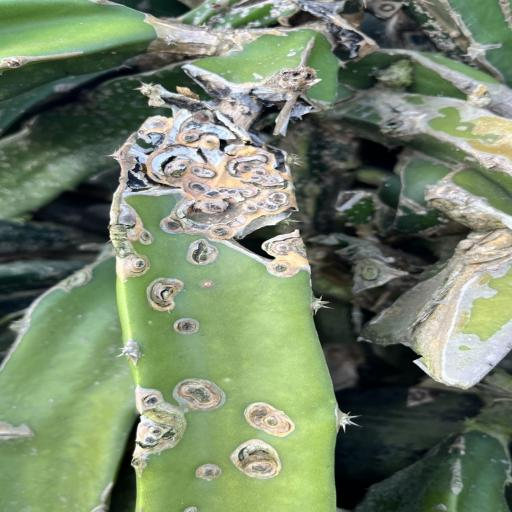stemcanker: (195, 278, 224, 294), (284, 50, 298, 58), (144, 318, 158, 326), (223, 376, 233, 382)
